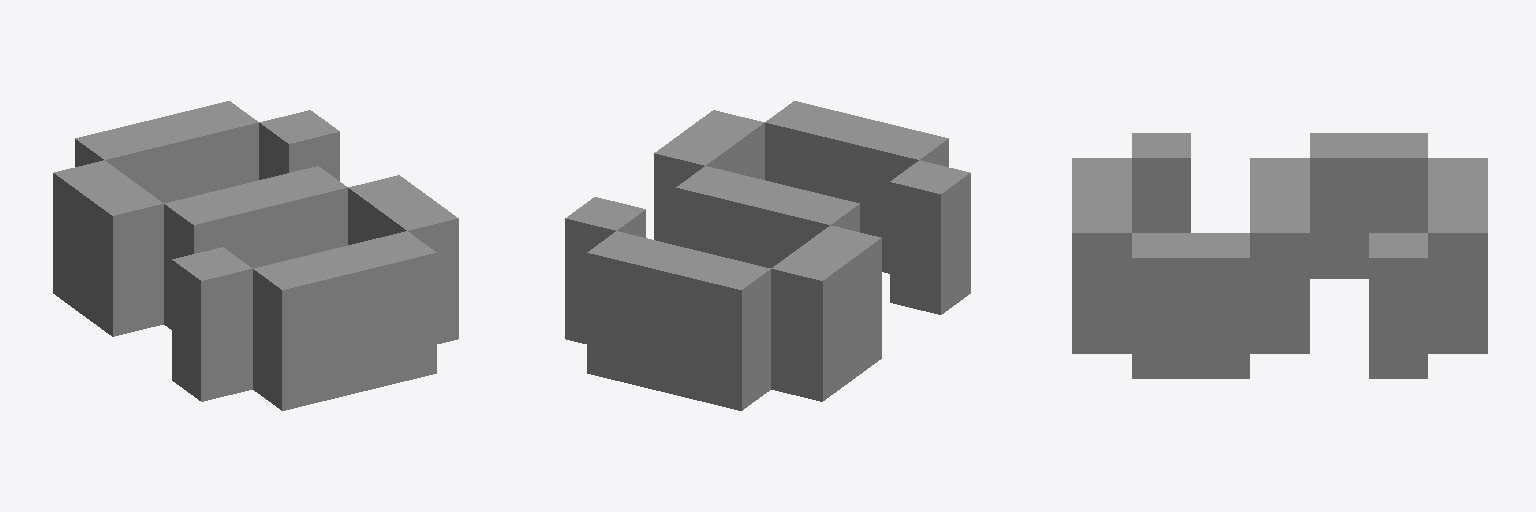
3 views of the same model, side by side, from view 1: azimuth 30°, elevation 25°; view 2: azimuth 150°, elevation 25°; view 3: azimuth 270°, elevation 25° (orthographic).
Parts seen in each view (by area): view 1: S_CUABC.019; view 2: S_CUABC.019; view 3: S_CUABC.019.
Boxes of the visible parts, box(x1,y1,x2,y2) form: S_CUABC.019: box(53, 101, 458, 410); S_CUABC.019: box(565, 101, 970, 410); S_CUABC.019: box(1072, 133, 1487, 378).
Size of the model in its own units: 0.5567 by 0.25 by 0.7778.